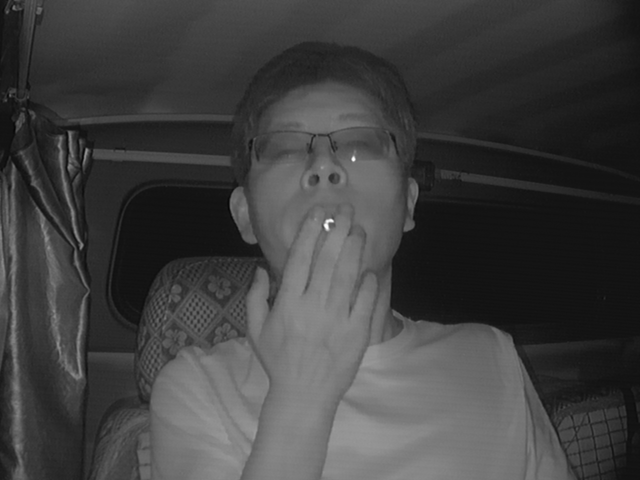hand: (247, 207, 381, 369)
